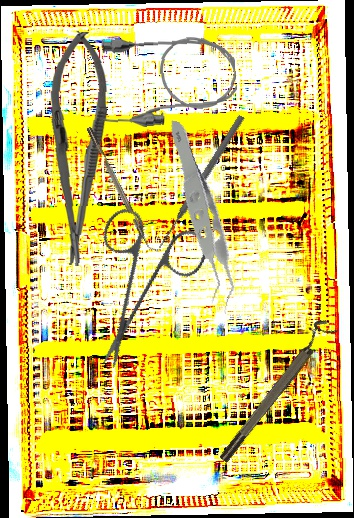Cannula: (94, 31, 239, 130)
Chopper: (86, 123, 160, 257)
Fixation Ring: (211, 316, 338, 465)
Iris Scissors: (48, 184, 237, 371)
Needle Holder: (44, 30, 110, 267)
Pusher: (155, 113, 246, 251)
Tissue Forceps: (124, 119, 274, 316)
